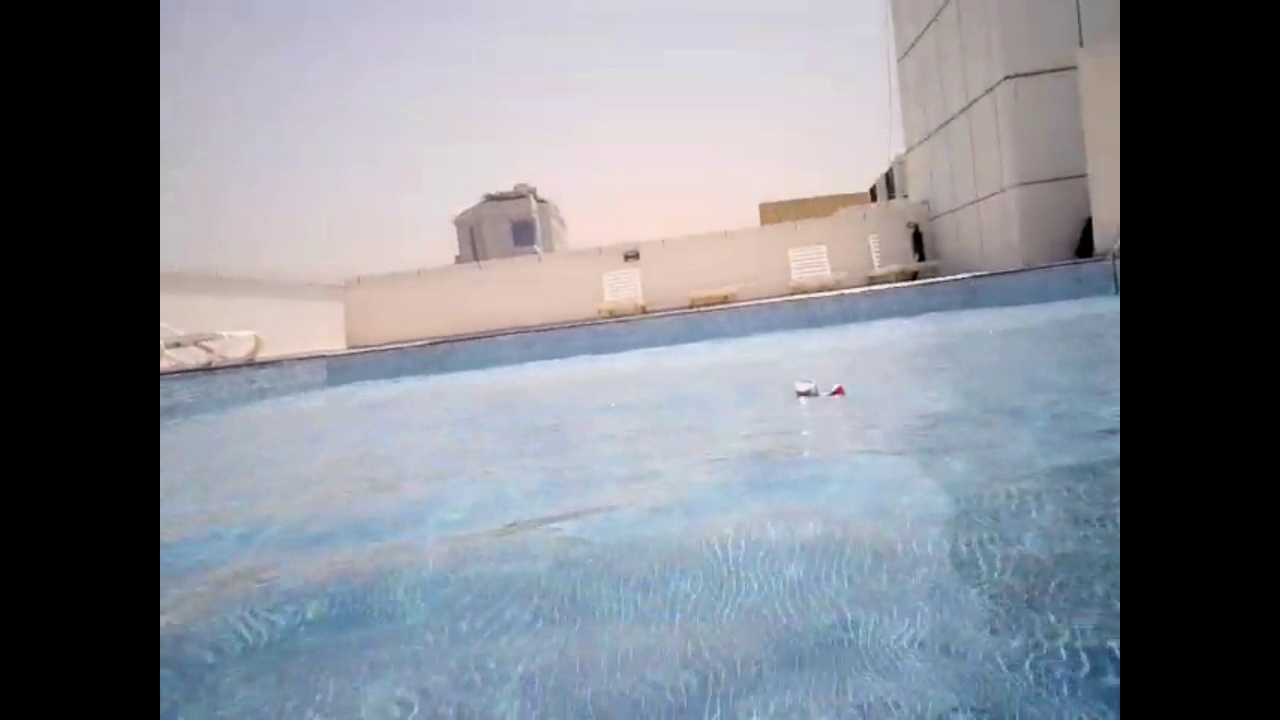debris: (786, 373, 822, 409), (820, 379, 848, 412)
